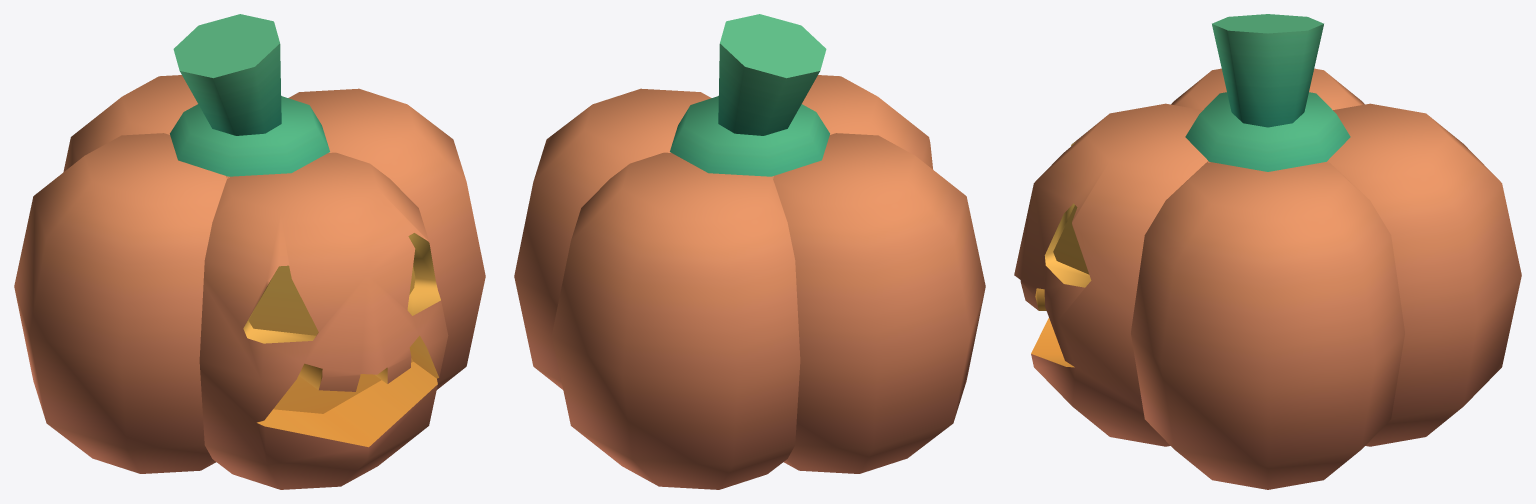
Rendered from pumpkin-carved.glb.
The picture shows the model from 3 angles, left to right: view 1: azimuth 30°, elevation 25°; view 2: azimuth 150°, elevation 25°; view 3: azimuth 270°, elevation 25°; orthographic projection.
Visible parts, largest first — view 1: pumpkin-carved; view 2: pumpkin-carved; view 3: pumpkin-carved.
Boxes of the visible parts, bbox=[...] form: pumpkin-carved: bbox=[14, 14, 485, 489]; pumpkin-carved: bbox=[514, 14, 985, 489]; pumpkin-carved: bbox=[1014, 14, 1521, 489].
Size of the model in its own units: 0.3775 by 0.3211 by 0.3775.
Materials: 1 (1 with a texture image).
